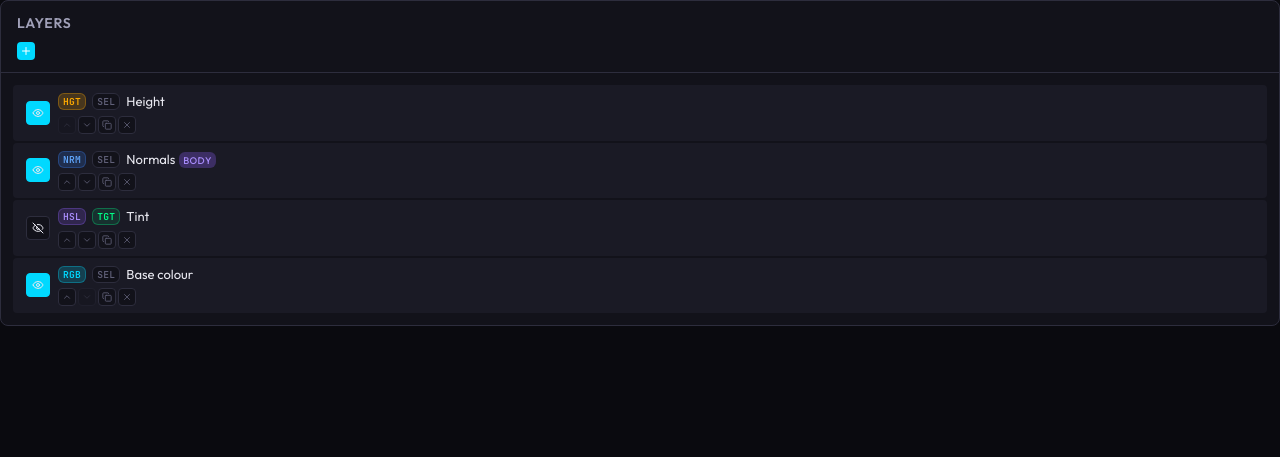
the panel header › picking Target pixel ticks and KEEPS the menu open; the channel pick then reports 'target'
Click the button named "Add layer".
click(26, 51)  # box x1=17 y1=42 x2=35 y2=60
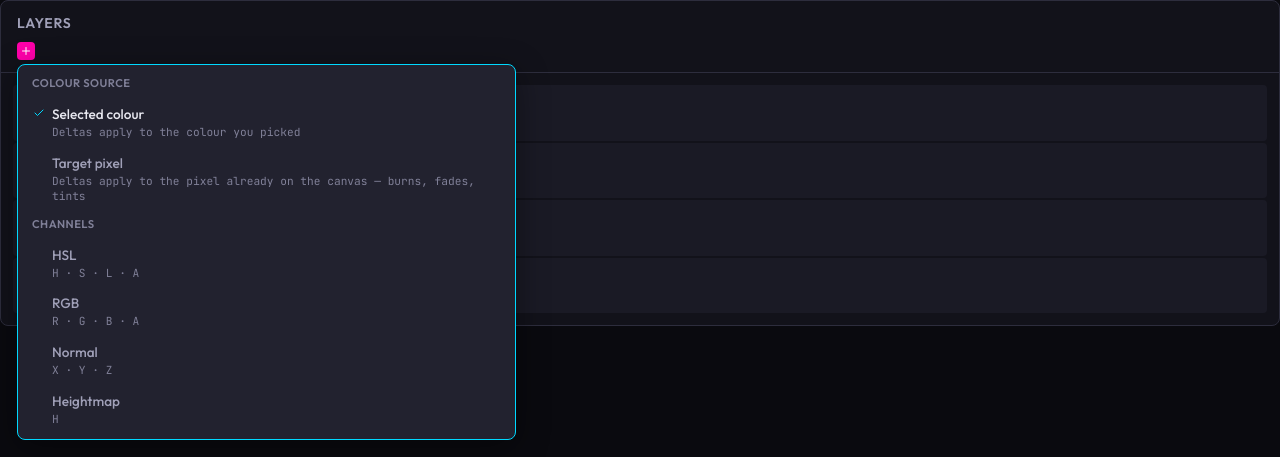
Click the menu item "Target pixel".
click(267, 179)  # box x1=24 y1=148 x2=509 y2=211
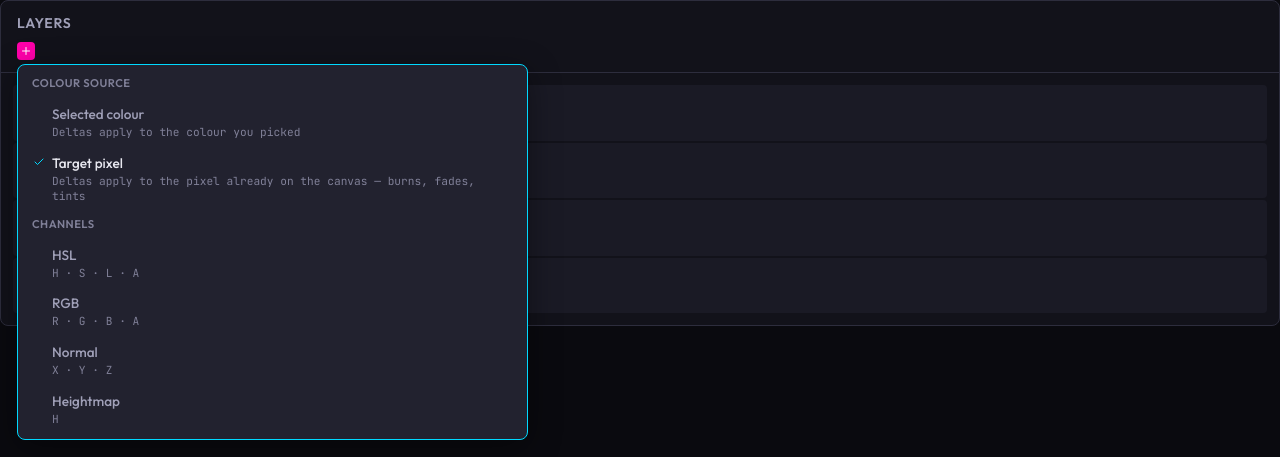
Result: the menu named "New layer — colour source, then channel" is shown at x1=17 y1=64 x2=528 y2=440
Result: the button named "Add layer" is expanded at x1=17 y1=42 x2=35 y2=60
Click the menu item "Normal X · Y · Z".
click(75, 352)  # box x1=24 y1=337 x2=521 y2=385
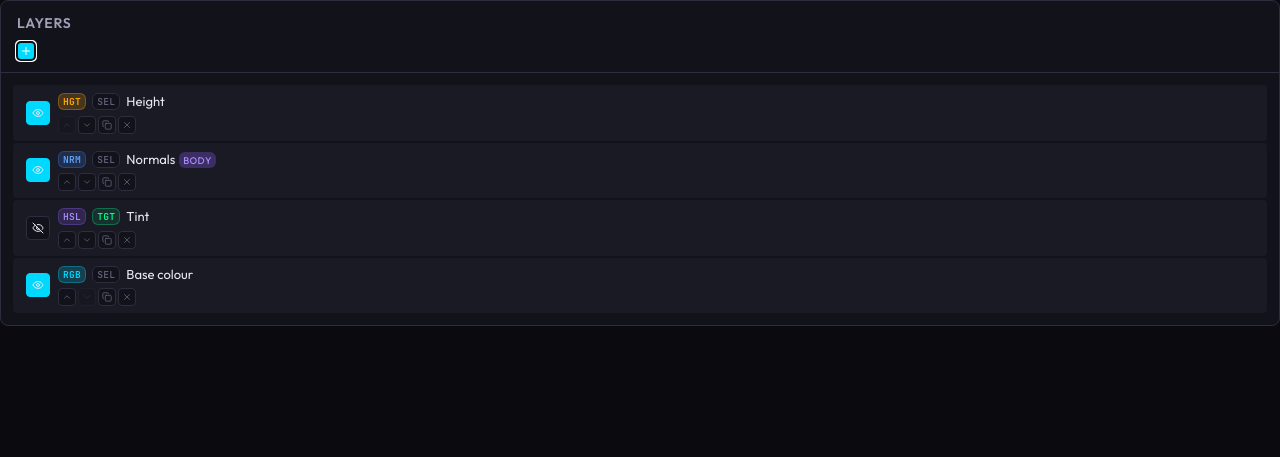
Result: the menu is gone
